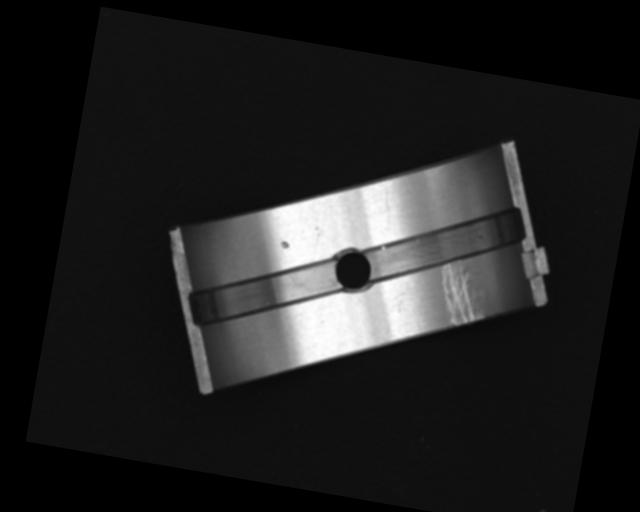bruise: (278, 238, 290, 250)
gap: (360, 183, 526, 302), (187, 241, 343, 347)
hole: (331, 246, 374, 294)
nick: (379, 184, 396, 223)
scratch: (432, 258, 491, 330)
